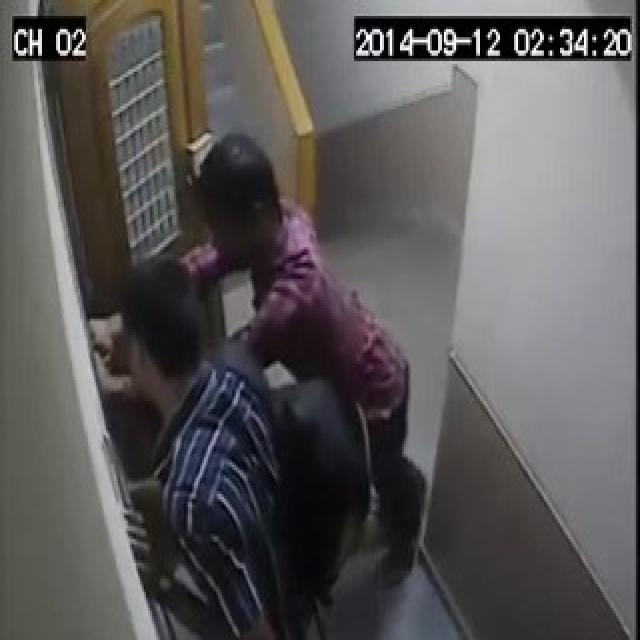burglary: (50, 266, 279, 567)
